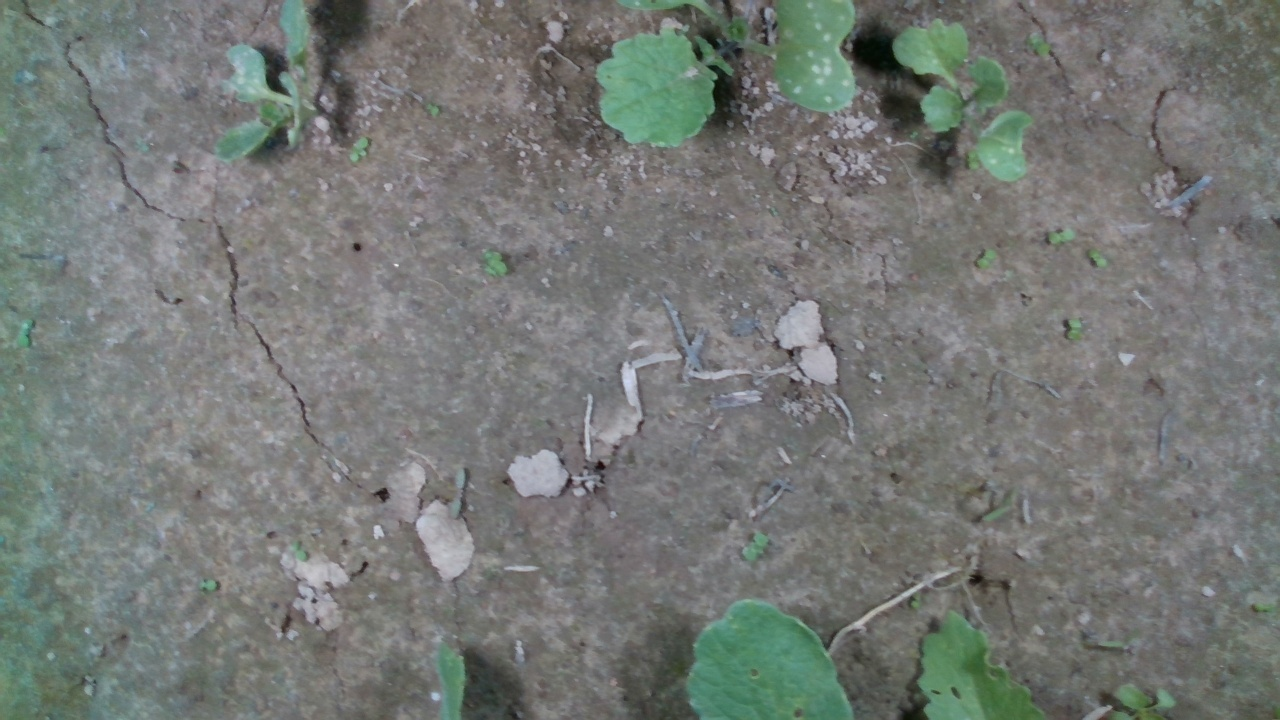weed: (740, 531, 769, 563), (347, 134, 370, 163), (1045, 226, 1076, 244), (974, 248, 996, 270), (289, 540, 310, 562), (1065, 316, 1083, 340), (1088, 248, 1108, 269), (194, 576, 219, 592), (424, 101, 442, 120)
